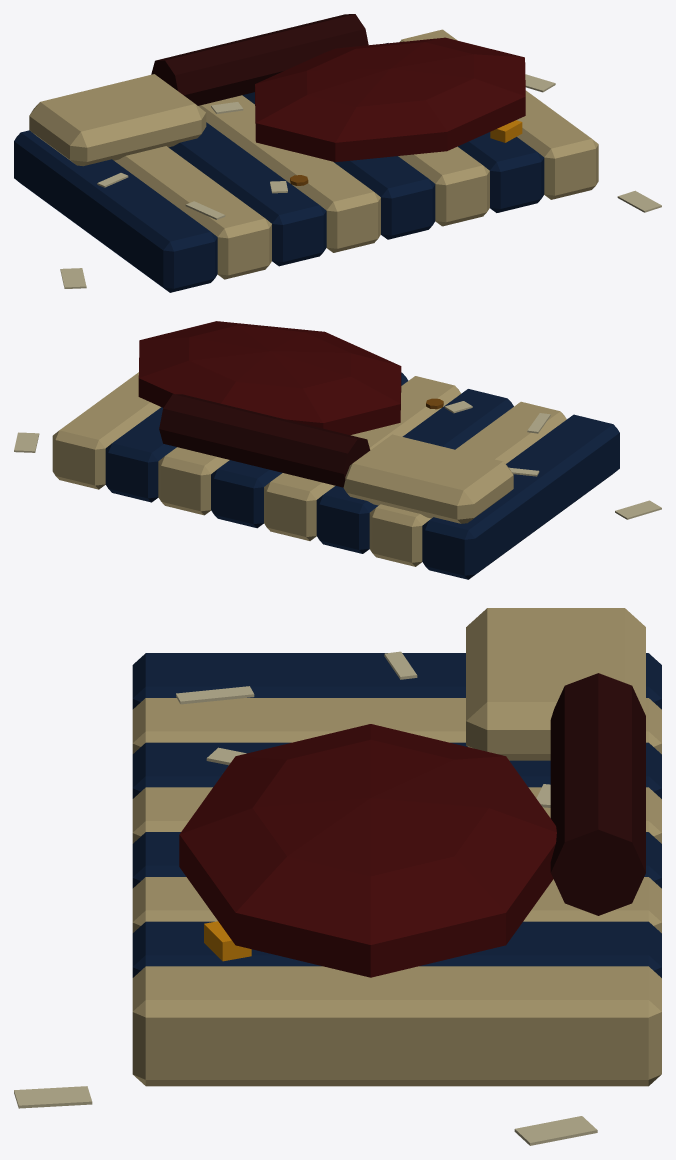
File: SM_Hide_Nest_Mattress.glb
3 renders of one model, top to bottom at view 1: azimuth 30°, elevation 25°; view 2: azimuth 150°, elevation 25°; view 3: azimuth 270°, elevation 25°, orthographic. The views are drawn at different scales.
Parts seen in each view (by area): view 1: SM_Hide_Nest_Mattress-col; view 2: SM_Hide_Nest_Mattress-col; view 3: SM_Hide_Nest_Mattress-col.
Part boxes in pixels (x1,y1,x2,y2): SM_Hide_Nest_Mattress-col: (14, 14, 661, 292); SM_Hide_Nest_Mattress-col: (14, 321, 661, 579); SM_Hide_Nest_Mattress-col: (14, 608, 661, 1145).
Bounding box in the file's own units: 2.12 × 0.37 × 1.22.
